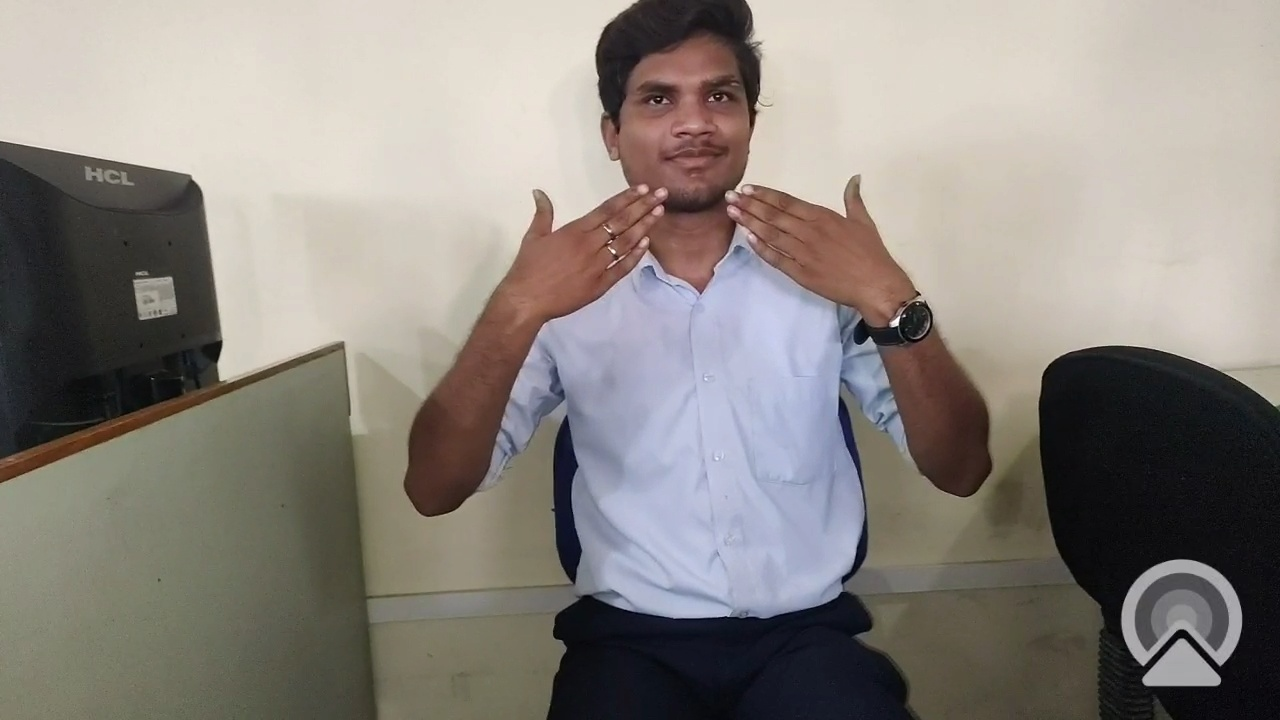Thank you: (482, 168, 951, 374)
